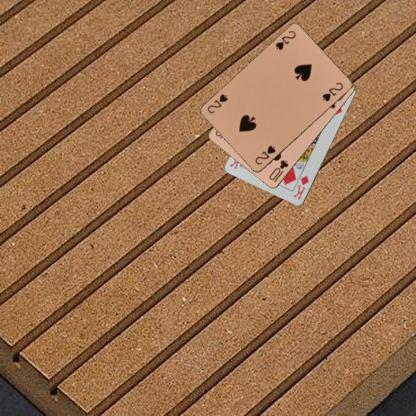10c: (266, 158, 289, 181)
2s: (273, 28, 297, 52), (252, 144, 277, 166)
Kd: (291, 173, 310, 201)
